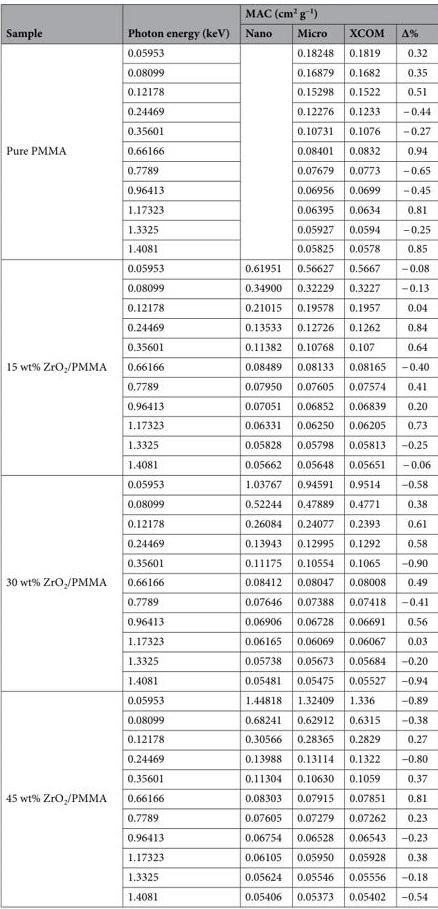table: (5, 4, 432, 903)
table column: (116, 4, 236, 903), (5, 4, 116, 903), (236, 4, 289, 903), (289, 4, 341, 903), (341, 4, 393, 903), (393, 4, 432, 903)
table column header: (5, 4, 432, 42)
table row: (5, 22, 432, 42), (5, 61, 432, 81), (5, 81, 432, 101), (5, 120, 432, 140), (5, 140, 432, 160), (5, 179, 432, 199), (5, 218, 432, 238), (5, 238, 432, 258), (5, 277, 432, 297), (5, 297, 432, 317), (5, 336, 432, 356), (5, 375, 432, 395), (5, 395, 432, 415), (5, 434, 432, 454), (5, 454, 432, 474), (5, 493, 432, 513), (5, 532, 432, 552), (5, 552, 432, 572), (5, 591, 432, 611), (5, 630, 432, 650), (5, 650, 432, 670), (5, 689, 432, 709), (5, 709, 432, 729), (5, 748, 432, 768), (5, 787, 432, 807), (5, 807, 432, 827), (5, 846, 432, 866), (5, 866, 432, 886), (5, 42, 432, 61), (5, 101, 432, 120), (5, 160, 432, 179), (5, 199, 432, 218), (5, 258, 432, 277), (5, 317, 432, 336), (5, 356, 432, 375), (5, 415, 432, 434), (5, 474, 432, 493), (5, 513, 432, 532), (5, 572, 432, 591), (5, 611, 432, 630), (5, 670, 432, 689), (5, 729, 432, 748), (5, 768, 432, 787), (5, 827, 432, 846), (5, 4, 432, 22), (5, 886, 432, 903)
table spanning cell: (5, 42, 116, 258), (5, 258, 116, 474), (5, 474, 116, 689), (5, 689, 116, 903), (116, 4, 236, 42), (5, 4, 116, 42), (236, 4, 432, 22)
